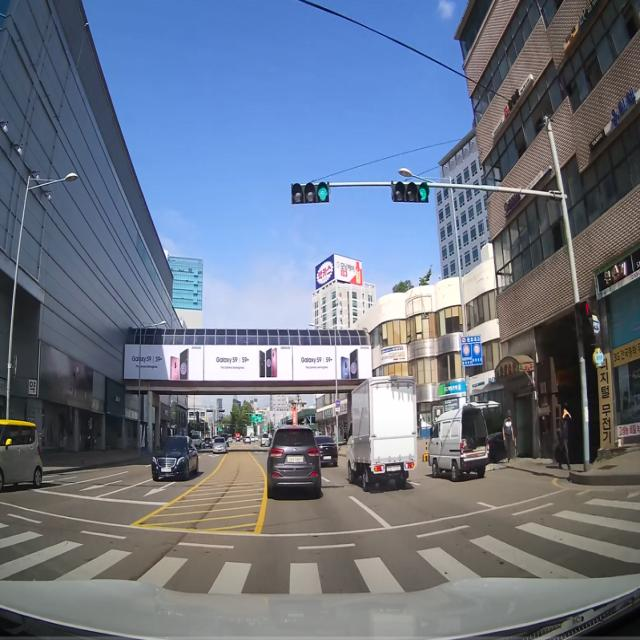Green Light: (317, 183, 329, 202), (417, 182, 429, 201)
